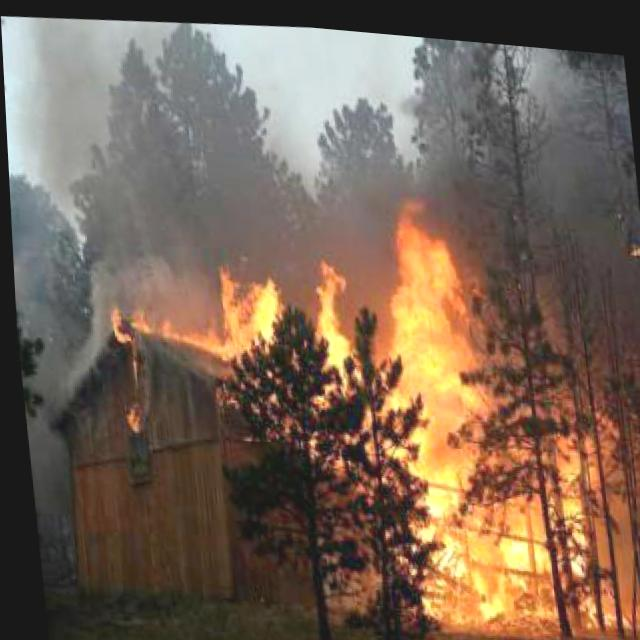helmet: (195, 165, 633, 640), (101, 296, 213, 359), (110, 389, 146, 443)
no_helmet: (12, 1, 324, 193)
